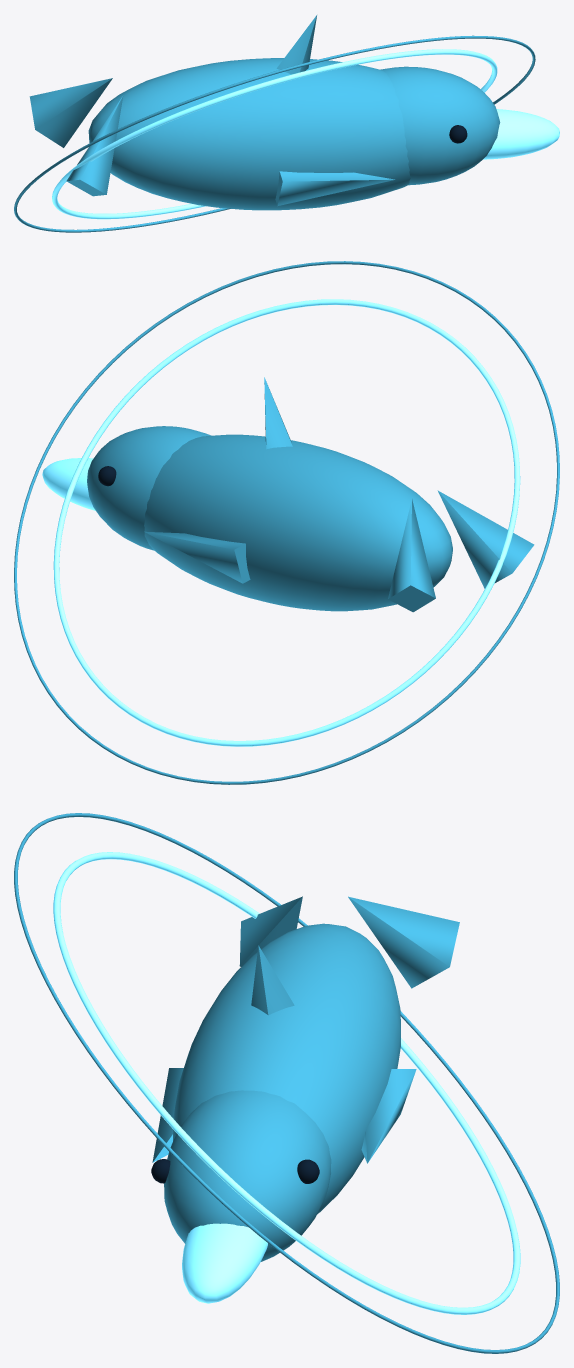
The model's file is echovision-dolphin.glb.
3 views of the same model, one above another, from view 1: azimuth 30°, elevation 25°; view 2: azimuth 150°, elevation 25°; view 3: azimuth 270°, elevation 25° (orthographic). The views are drawn at different scales.
Parts seen in each view (by area): view 1: Body, Head, Echo orbit, Tail left, Beak, Right fin, Tail right, Dorsal fin; view 2: Body, Echo orbit, Head, Tail right, Tail left, Left fin, Beak, Dorsal fin; view 3: Body, Head, Echo orbit, Beak, Tail left, Tail right, Left fin, Dorsal fin, Right fin.
Part boxes in pixels (left/top/right/bottom): Body: left=88, top=58, right=410, bottom=210; Head: left=380, top=66, right=500, bottom=185; Echo orbit: left=14, top=35, right=535, bottom=232; Tail left: left=29, top=78, right=112, bottom=147; Beak: left=483, top=109, right=559, bottom=159; Right fin: left=275, top=171, right=395, bottom=206; Tail right: left=66, top=95, right=123, bottom=196; Dorsal fin: left=276, top=15, right=316, bottom=74; Body: left=144, top=434, right=452, bottom=611; Echo orbit: left=14, top=261, right=559, bottom=784; Head: left=87, top=426, right=210, bottom=550; Tail right: left=437, top=490, right=534, bottom=588; Tail left: left=388, top=499, right=435, bottom=612; Left fin: left=144, top=531, right=250, bottom=583; Beak: left=42, top=458, right=95, bottom=510; Dorsal fin: left=264, top=377, right=292, bottom=449; Body: left=173, top=923, right=400, bottom=1213; Head: left=164, top=1090, right=331, bottom=1261; Echo orbit: left=14, top=813, right=559, bottom=1353; Beak: left=182, top=1223, right=267, bottom=1303; Tail left: left=348, top=896, right=459, bottom=988; Tail right: left=239, top=896, right=302, bottom=966; Left fin: left=361, top=1069, right=416, bottom=1163; Dorsal fin: left=251, top=945, right=294, bottom=1015; Right fin: left=152, top=1068, right=183, bottom=1162.
Bounding box in the file's own units: 4.46 × 2.83 × 3.25.
